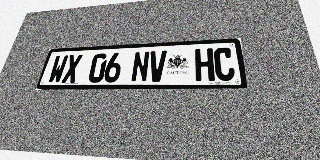0: (87, 53, 108, 83)
6: (103, 52, 123, 83)
C: (213, 47, 236, 81)
H: (195, 48, 215, 81)
N: (130, 51, 150, 82)
V: (148, 50, 167, 82)
W: (47, 55, 69, 83)
X: (61, 54, 83, 83)
